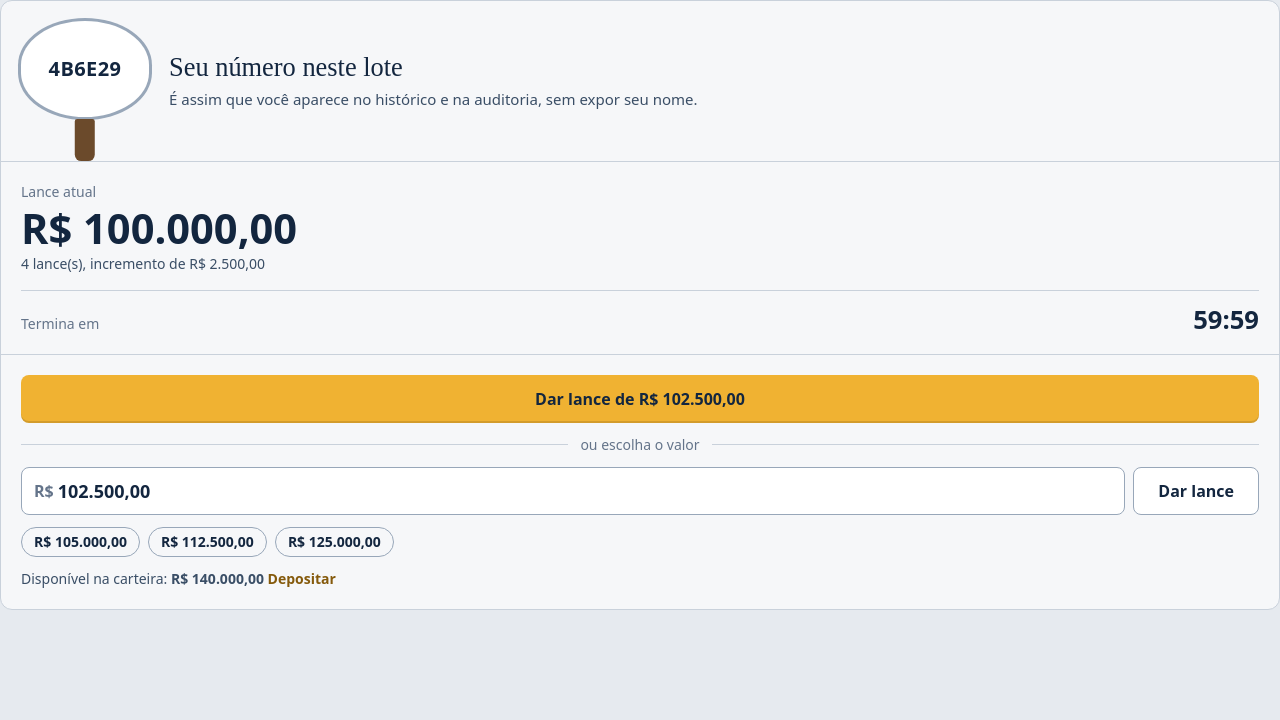
Test: BidPanel › confirma o lance aceito
Click the button "Dar lance de R$ 102.500,00" at (640,399), box [21,375,1259,423]
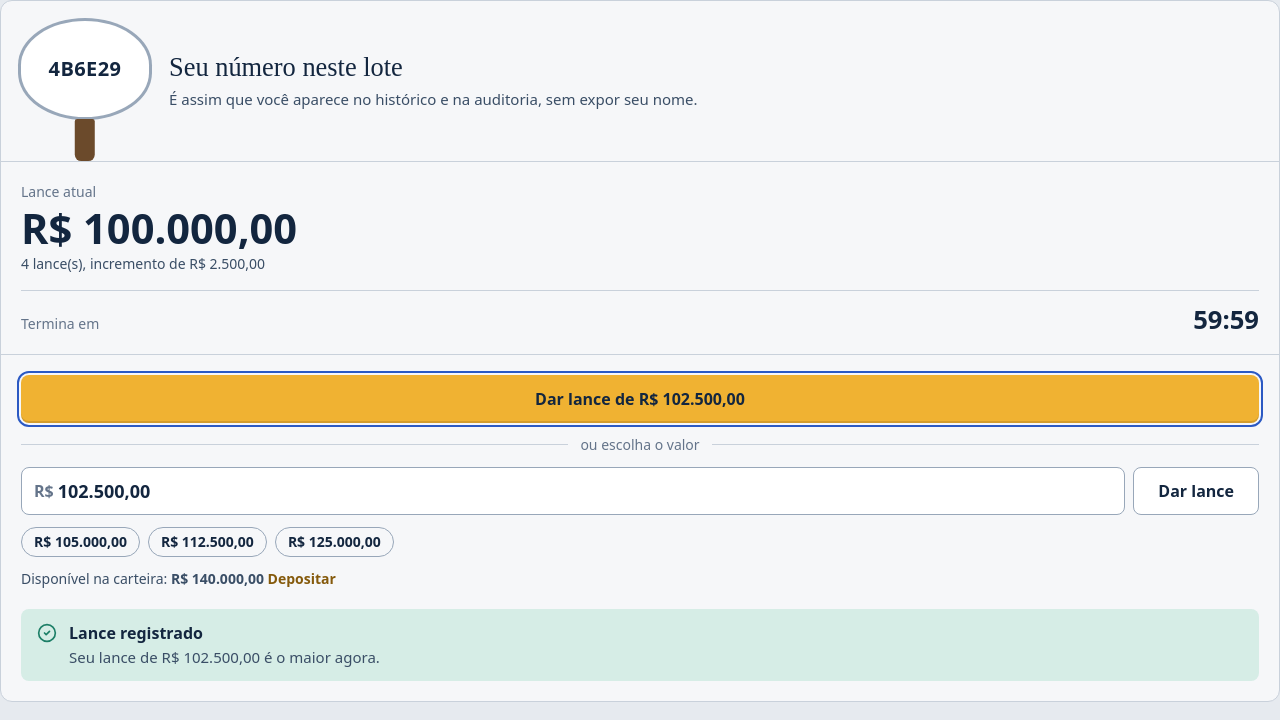
Now the message shows "Lance registrado", box [69,622,203,644]
